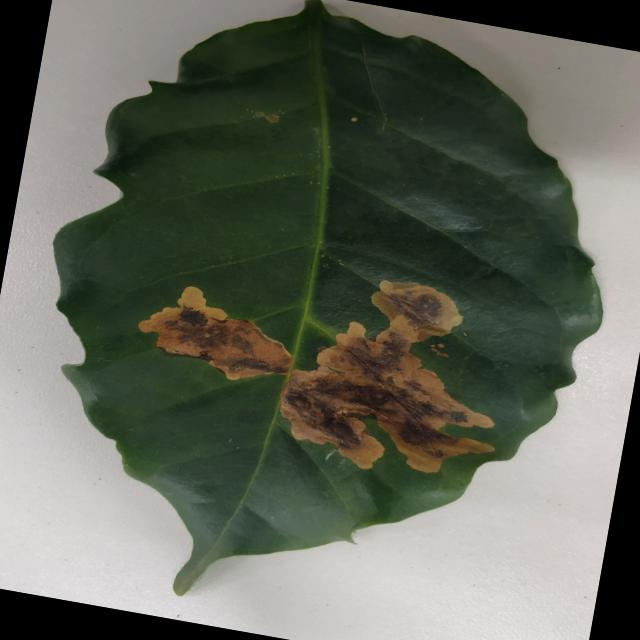PengorokDaunKopi: (280, 281, 493, 472), (138, 286, 291, 379)
